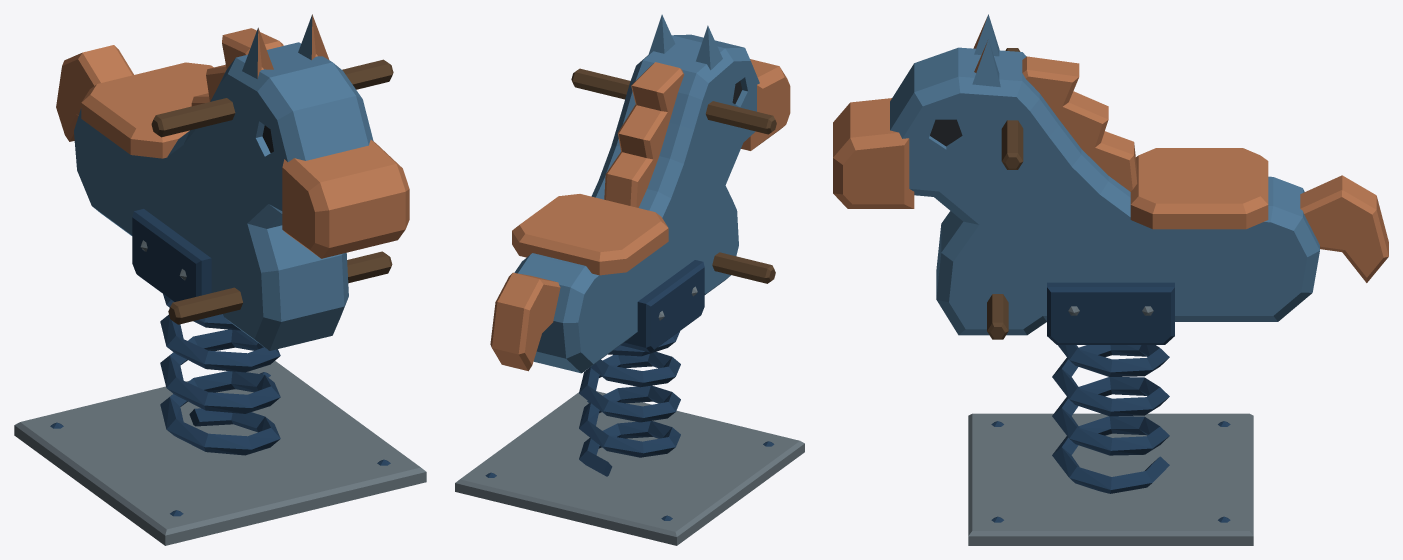
The model's file is spring-rider-c8b8d8.glb.
3 views of the same model, side by side, from view 1: azimuth 30°, elevation 25°; view 2: azimuth 150°, elevation 25°; view 3: azimuth 270°, elevation 25° (orthographic). The views are drawn at different scales.
Parts seen in each view (by area): view 1: rider, base; view 2: rider, base; view 3: rider, base.
Boxes of the visible parts, bbox=[...] form: rider: bbox=[56, 14, 409, 455]; base: bbox=[14, 361, 426, 545]; rider: bbox=[490, 14, 790, 457]; base: bbox=[455, 391, 804, 545]; rider: bbox=[833, 14, 1388, 493]; base: bbox=[968, 413, 1253, 545].
Size of the model in its own units: 0.58 by 1.03 by 1.13.
